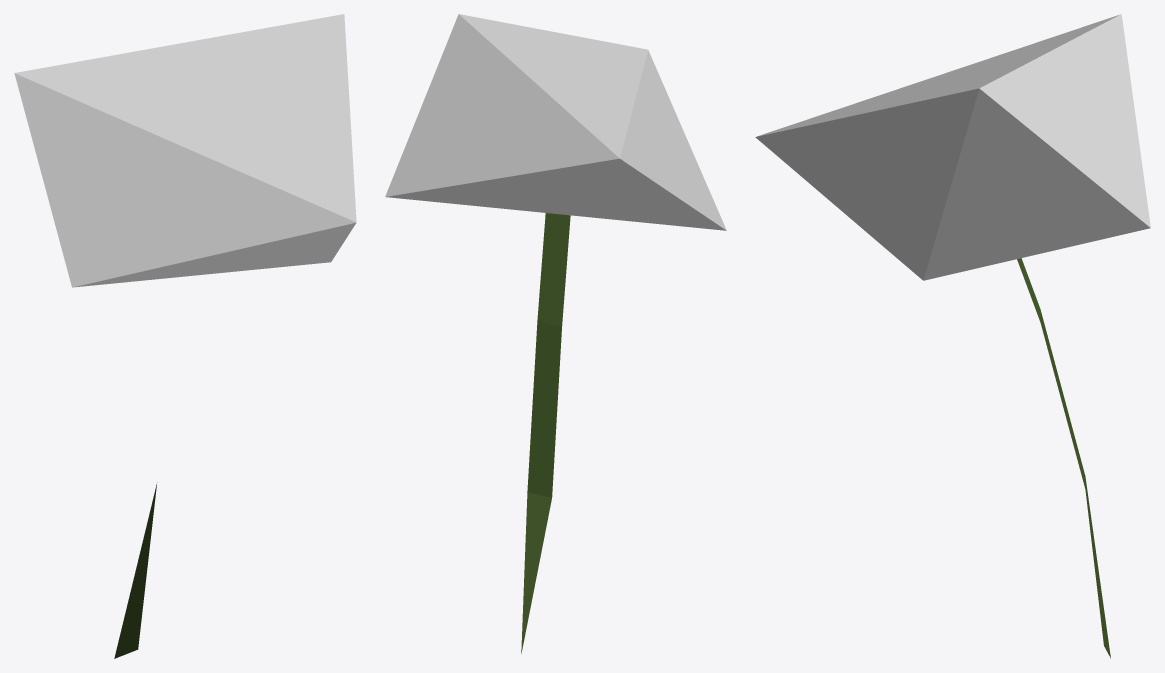
The model's file is FlowerA.glb.
3 renders of one model, left to right at view 1: azimuth 30°, elevation 25°; view 2: azimuth 150°, elevation 25°; view 3: azimuth 270°, elevation 25°, orthographic. The views are drawn at different scales.
Parts seen in each view (by area): view 1: FlowerA_LOD0; view 2: FlowerA_LOD0; view 3: FlowerA_LOD0.
Boxes of the visible parts, left/top/right/bottom form: FlowerA_LOD0: left=14, top=14, right=356, bottom=658; FlowerA_LOD0: left=385, top=14, right=726, bottom=653; FlowerA_LOD0: left=755, top=14, right=1150, bottom=658.
Size of what is drawn, in the model's own units: 0.0995 by 0.2137 by 0.1203.
